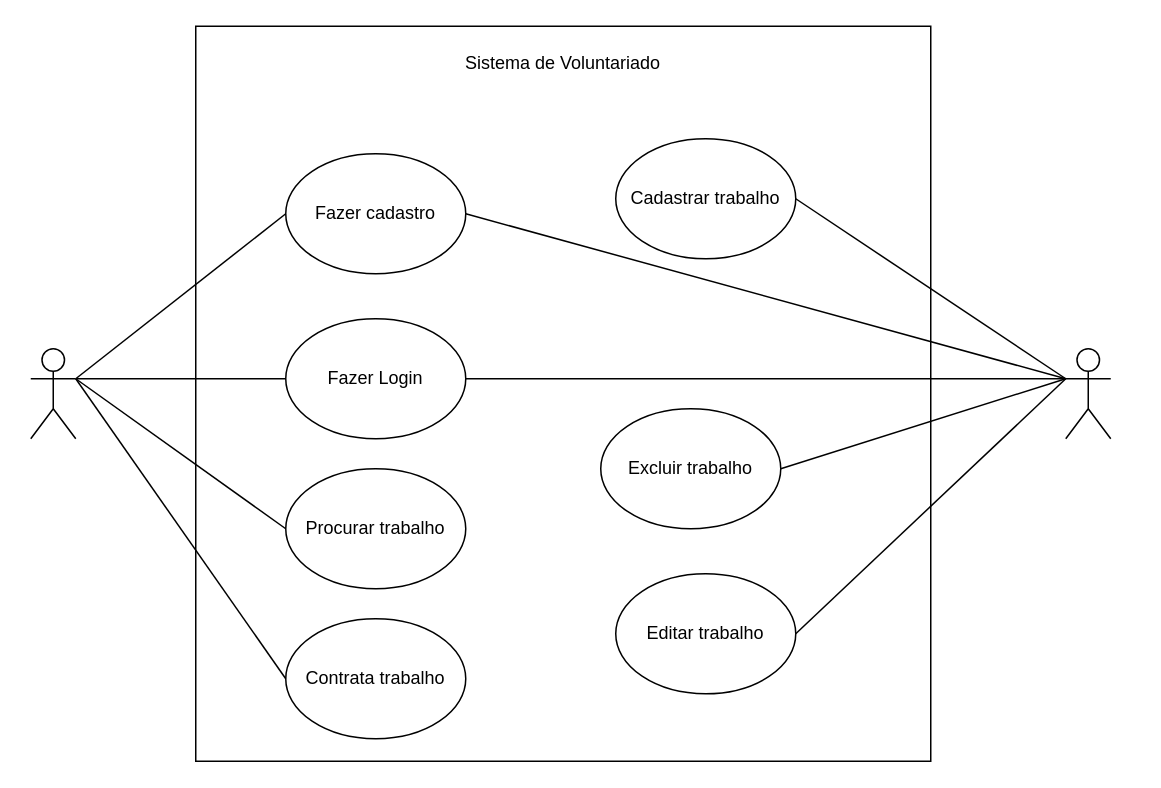
Image size: 1161x788. Some labels were removed from this diagram. The shapes that lost their labels are listed below. From the top down, each one's centre as x and y in pixels, then its label:
At (52,393): "Cliente".
At (1087,393): "Profissional".
